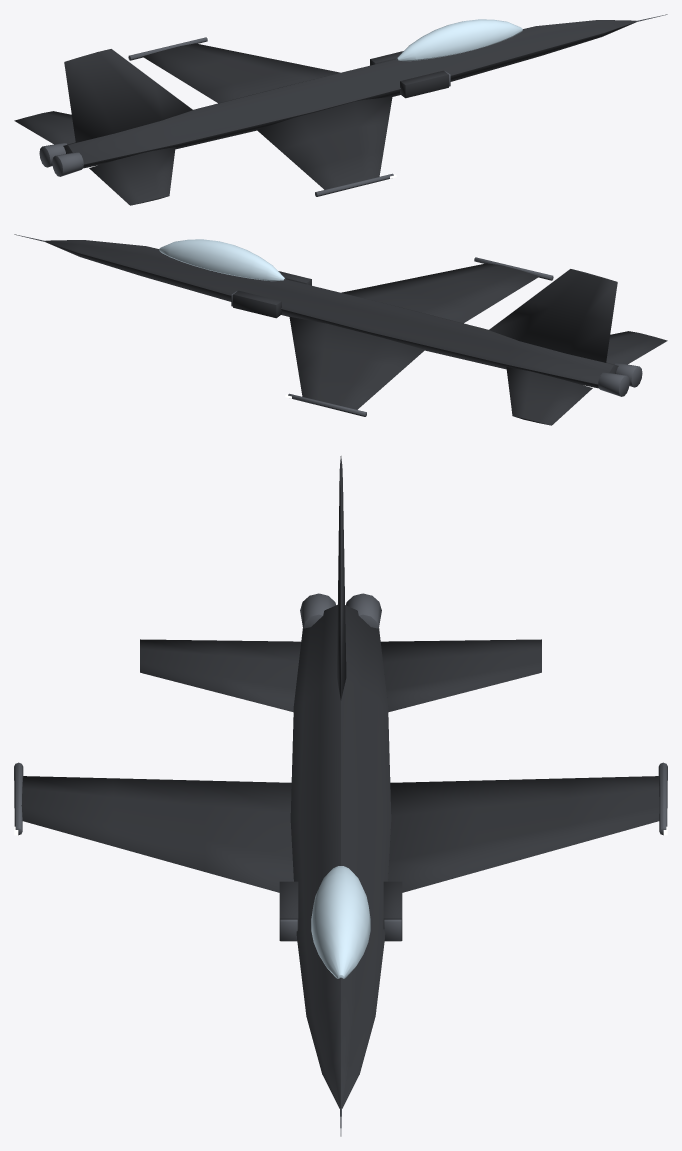
Rendered from SM_MiG28_Adversary.fbx.
3 views of the same model, one above another, from view 1: azimuth 30°, elevation 25°; view 2: azimuth 150°, elevation 25°; view 3: azimuth 270°, elevation 25° (orthographic). The views are drawn at different scales.
Visible parts, largest first — view 1: SM_MiG28_Adversary; view 2: SM_MiG28_Adversary; view 3: SM_MiG28_Adversary.
Part boxes in pixels (box(x1,y1,x2,y2)): SM_MiG28_Adversary: box(14, 14, 667, 205); SM_MiG28_Adversary: box(14, 234, 667, 425); SM_MiG28_Adversary: box(14, 456, 667, 1136).
Size of the model in its own units: 15.62 by 8.3 by 2.78.
